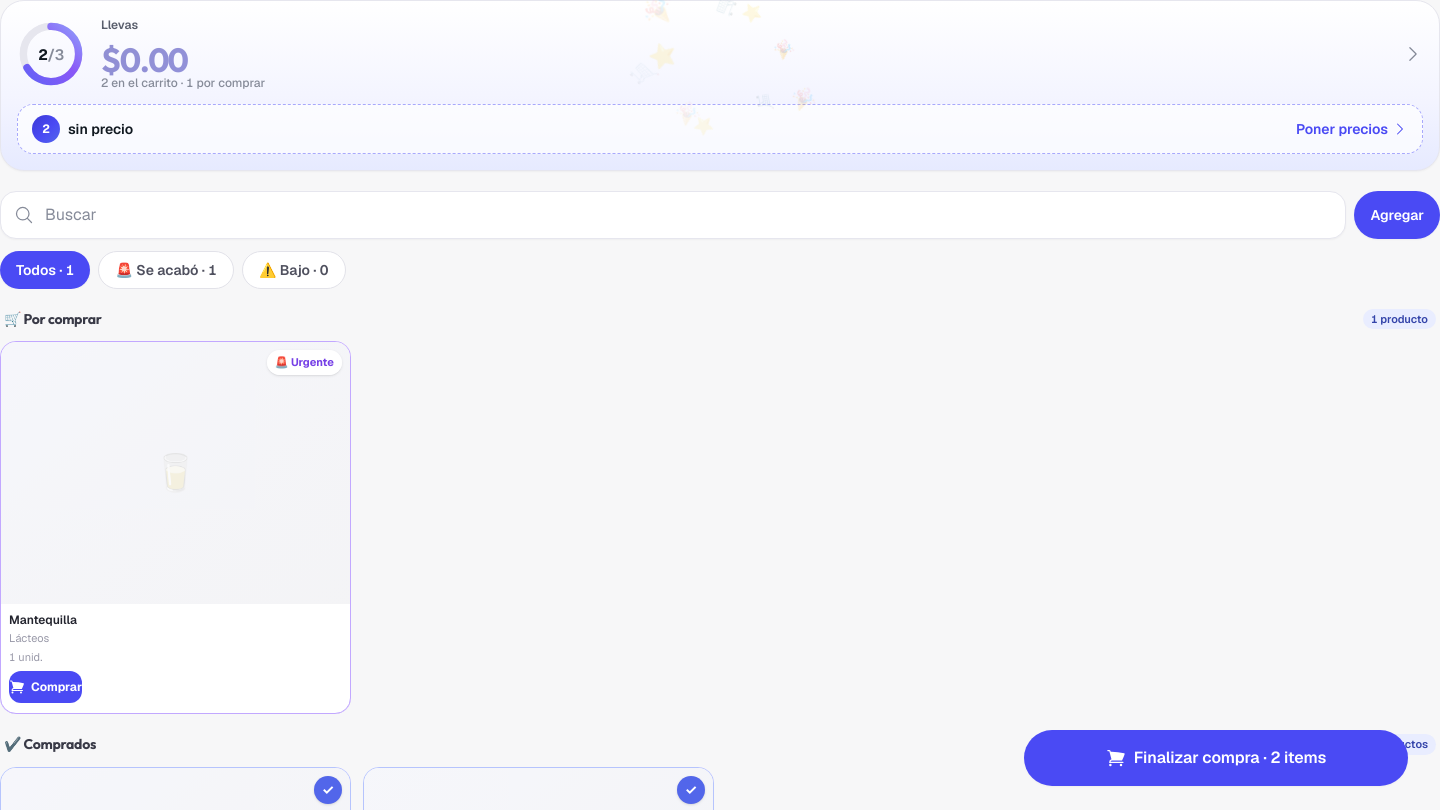
Test: SupermarketView · «ya no lo necesito» › la hoja ofrece los dos motivos
Click the text "Mantequilla": x=46, y=620 [9,612,82,628]
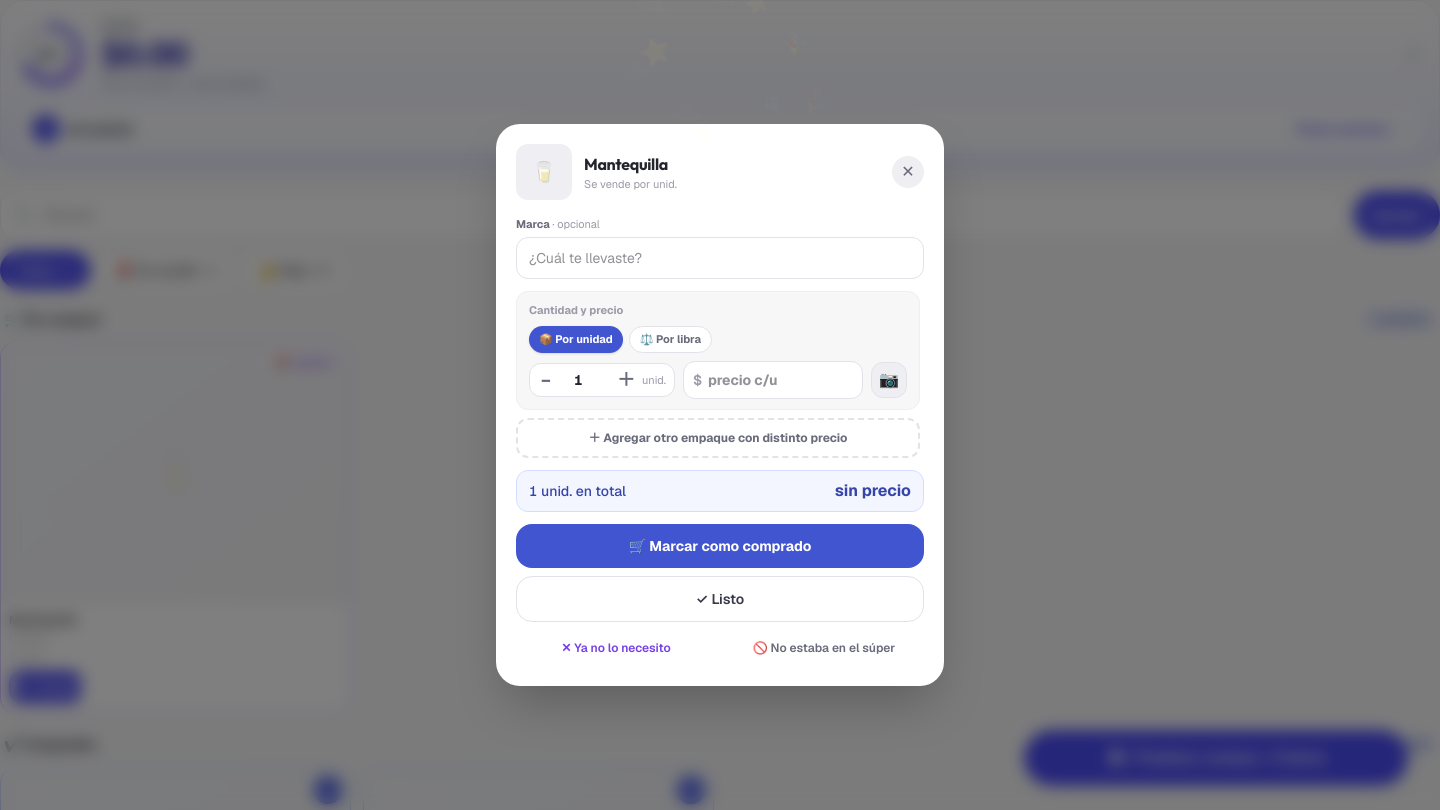
Now the button "✕ Ya no lo necesito" is shown, box [516,630,716,666]
Now the button "🚫 No estaba en el súper" is shown, box [724,630,924,666]
